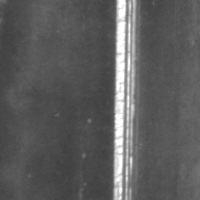scratches: (111, 0, 144, 199)
